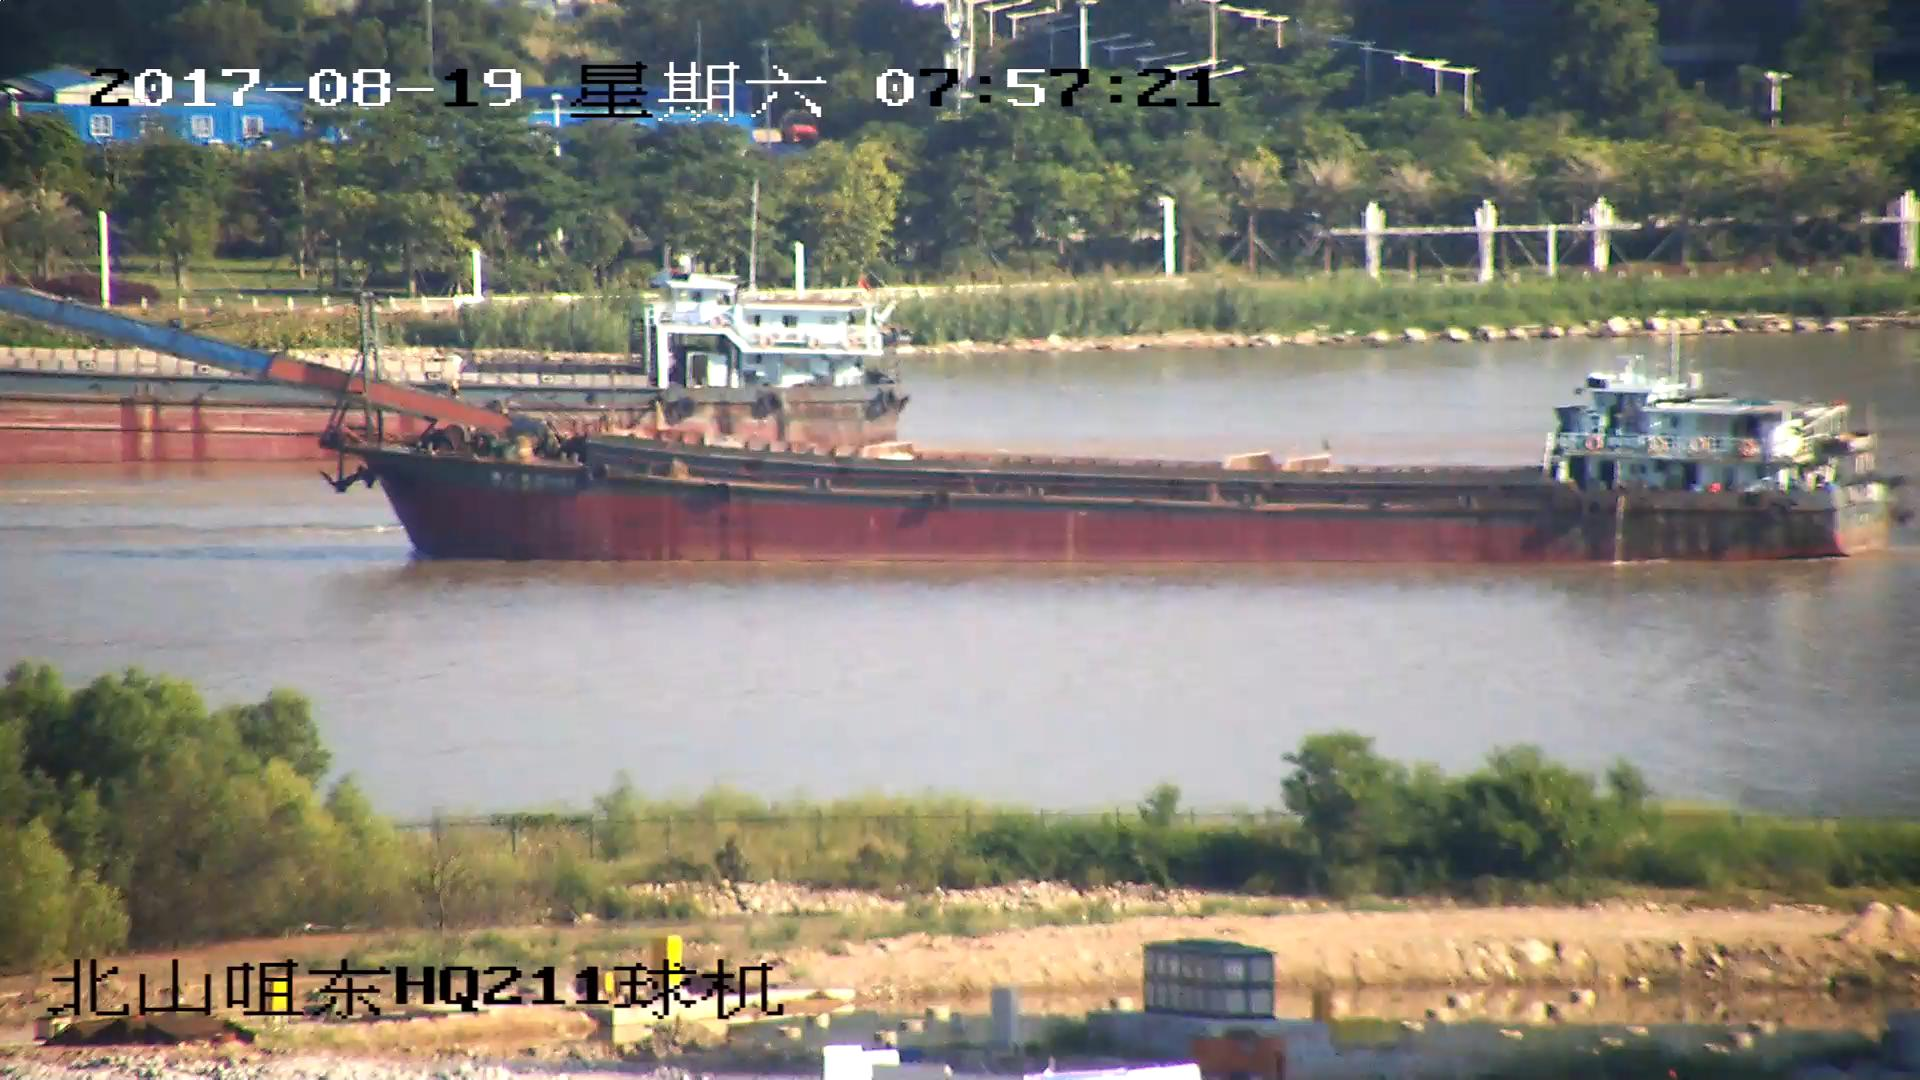bulk cargo carrier: (3, 285, 1906, 562), (1, 255, 904, 448)
